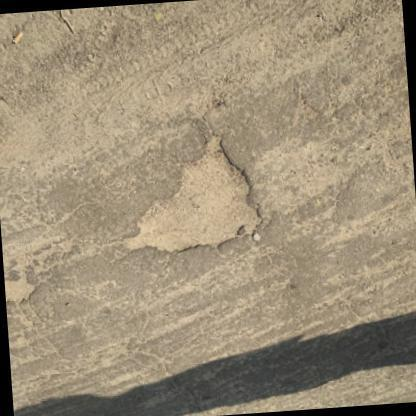pothole: (117, 133, 268, 261), (0, 232, 76, 306)
